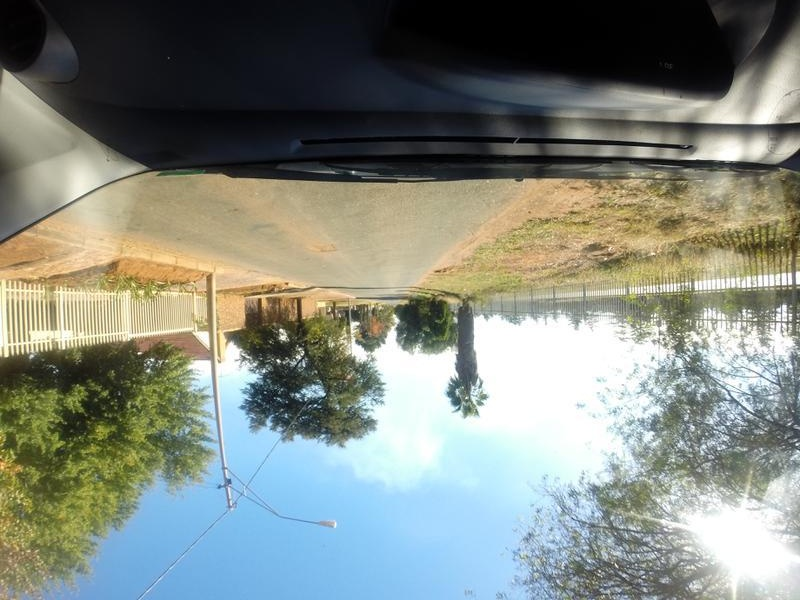pothole: (304, 226, 340, 260)
